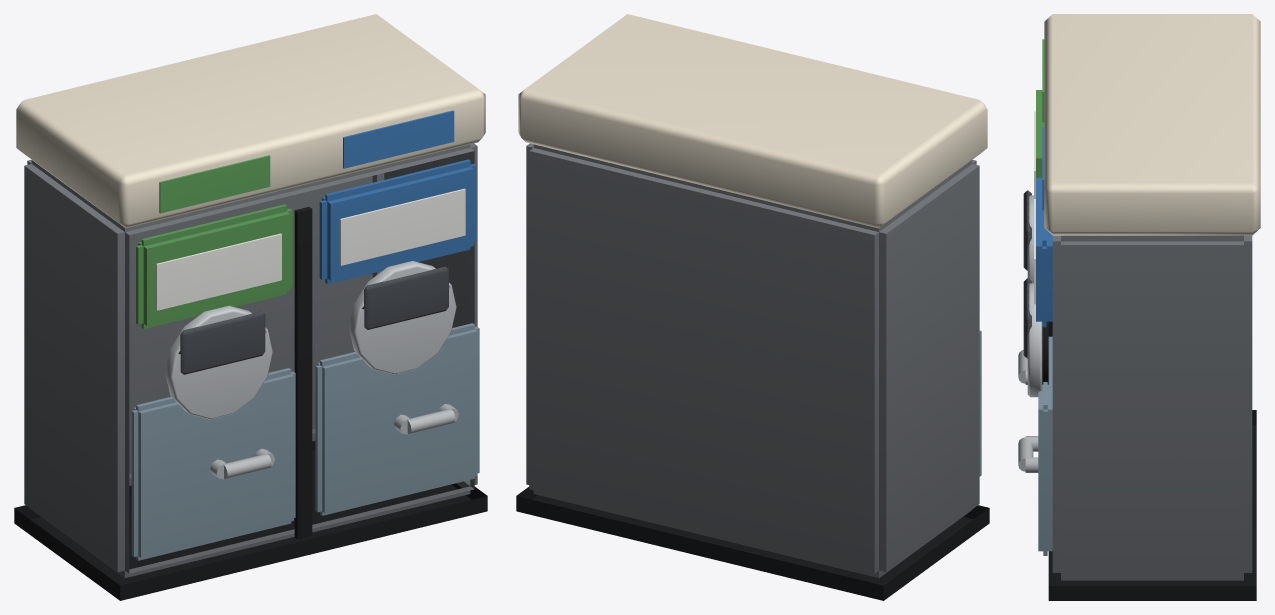
File: TrashRecycle_Station_01.glb
3 views of the same model, side by side, from view 1: azimuth 30°, elevation 25°; view 2: azimuth 150°, elevation 25°; view 3: azimuth 270°, elevation 25° (orthographic). The views are drawn at different scales.
Parts seen in each view (by area): view 1: SM_TrashRecycle_Station_01; view 2: SM_TrashRecycle_Station_01; view 3: SM_TrashRecycle_Station_01.
Part boxes in pixels (bbox=[...]): SM_TrashRecycle_Station_01: bbox=[14, 14, 487, 600]; SM_TrashRecycle_Station_01: bbox=[516, 14, 989, 600]; SM_TrashRecycle_Station_01: bbox=[1018, 14, 1260, 600].
Size of the model in its own units: 1 by 1.1 by 0.583.
1 material, 1 textured.
